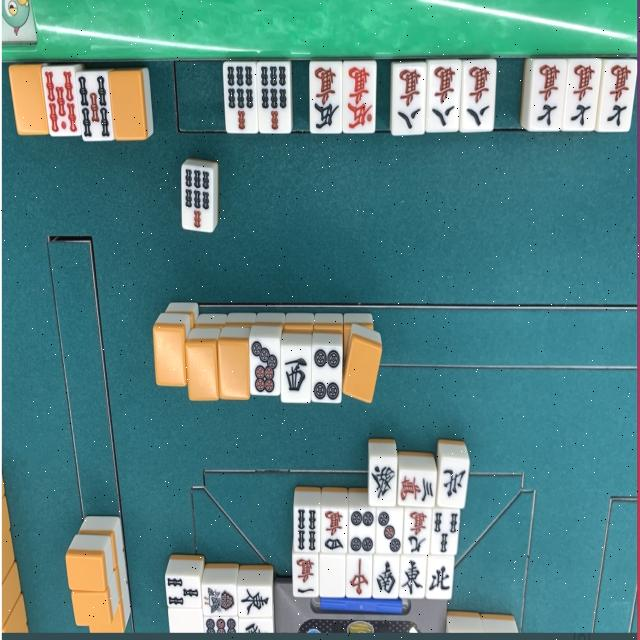bamboos_3: (431, 506, 463, 556)
bamboos_4: (294, 508, 320, 554)
bamboos_5: (41, 64, 82, 138), (77, 71, 115, 143)
bamboos_7: (222, 60, 258, 134), (256, 61, 291, 136), (182, 164, 214, 233)
characters_1: (291, 553, 320, 601)
characters_3: (397, 469, 439, 508)
characters_4: (319, 507, 349, 555)
characters_5: (341, 58, 376, 134), (308, 59, 341, 136)
characters_7: (596, 59, 637, 133), (564, 60, 603, 134), (530, 58, 568, 132)
characters_8: (426, 60, 463, 133), (460, 60, 496, 134), (393, 61, 427, 135)
characters_9: (403, 508, 433, 557)
circles_3: (376, 505, 404, 557)
circles_4: (311, 345, 344, 408), (350, 509, 376, 556)
circles_7: (250, 334, 280, 398)
east: (399, 556, 426, 601)
green: (369, 453, 398, 508)
north: (436, 455, 469, 511), (426, 556, 454, 602)
red: (347, 556, 372, 601)
south: (373, 554, 400, 599)
west: (281, 344, 311, 405)
white: (318, 553, 346, 599)
